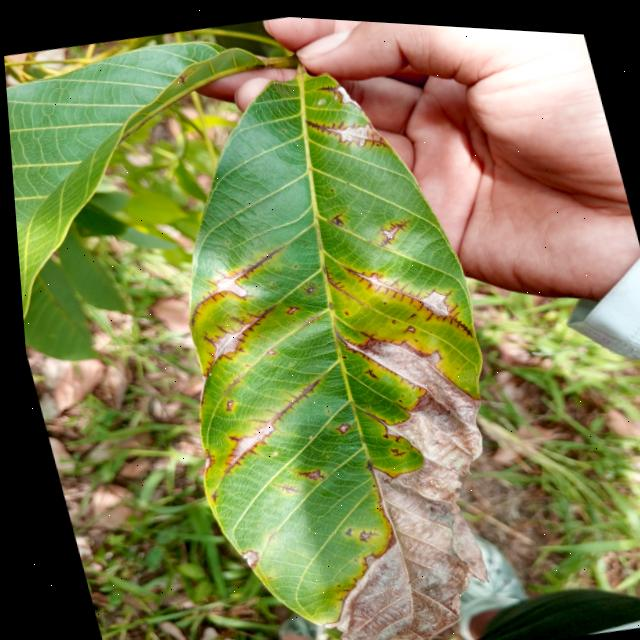Colletotrichum: (337, 351, 343, 356), (290, 261, 294, 266), (327, 185, 332, 189), (340, 307, 344, 311), (280, 126, 284, 130), (328, 581, 332, 584), (223, 238, 226, 241), (285, 164, 288, 167), (269, 280, 271, 282), (273, 265, 275, 267), (328, 588, 330, 590)
Corynespora: (195, 368, 336, 478), (339, 243, 471, 353), (169, 234, 303, 329), (182, 297, 290, 382), (301, 101, 387, 159), (369, 211, 413, 246), (318, 255, 347, 297), (280, 458, 324, 484), (333, 330, 363, 358), (213, 367, 244, 393), (263, 475, 298, 497), (356, 323, 390, 344), (192, 444, 213, 473), (172, 64, 200, 84), (324, 416, 352, 434), (348, 522, 373, 540), (295, 275, 317, 295), (313, 79, 341, 94), (277, 299, 301, 314), (326, 206, 345, 224), (356, 362, 375, 377), (382, 441, 401, 454), (202, 487, 215, 501), (336, 523, 350, 533)
Leaf-Blight: (243, 310, 538, 640), (335, 79, 360, 108), (232, 545, 254, 567)
